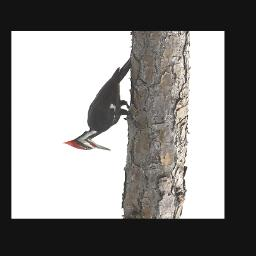Woodpecker: (61, 55, 131, 151)
